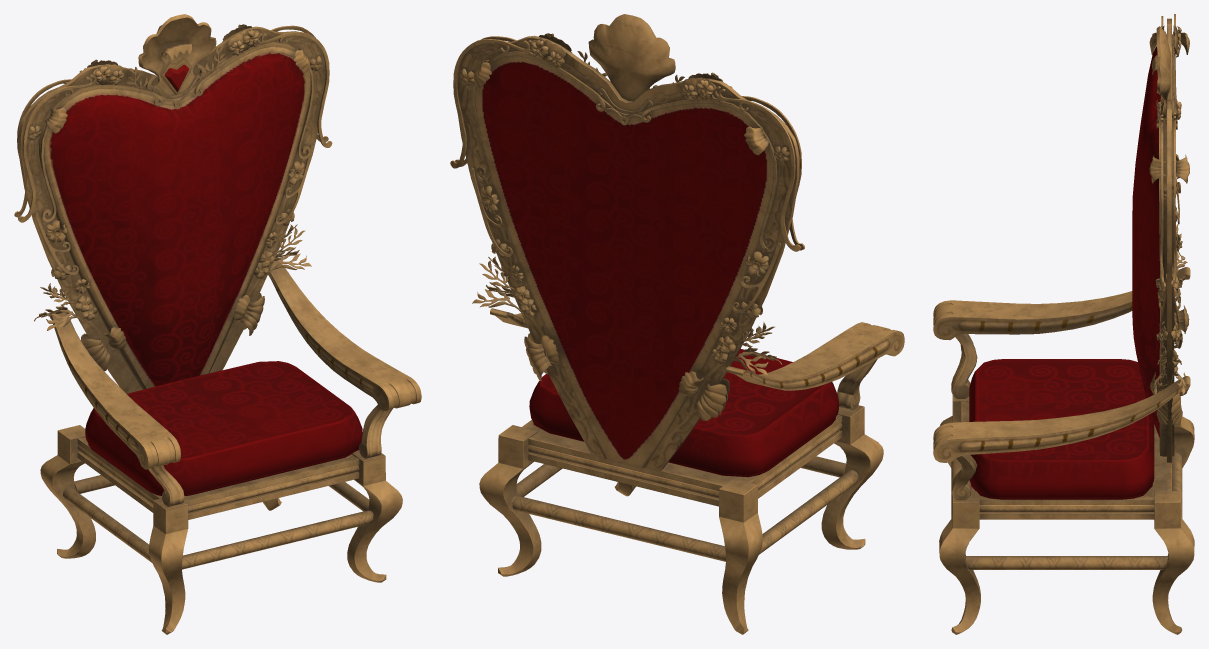
Rendered from kingly_throne.glb.
3 views of the same model, side by side, from view 1: azimuth 30°, elevation 25°; view 2: azimuth 150°, elevation 25°; view 3: azimuth 270°, elevation 25° (orthographic). The views are drawn at different scales.
Visible parts, largest first — view 1: throne_heart_low, throne_seat_low, throne_arms_low, throne_chair_base_low, throne_legs_low, throne_seat_base_low, throne_legs_base_low, throne_crown_low, throne_curls_003_low, throne_curls_001_low, throne_arms_base_low, throne_leaves_bundle_low (+7 smaller); view 2: throne_chair_base_low, throne_seat_low, throne_legs_low, throne_legs_base_low, throne_seat_base_low, throne_arms_low, throne_crown_low, throne_curls_003_low, throne_curls_001_low, throne_leaves_bundle_low, throne_petals_004_low, throne_seat_holes_low (+6 smaller); view 3: throne_seat_low, throne_arms_low, throne_heart_low, throne_legs_low, throne_seat_base_low, throne_legs_base_low, throne_chair_base_low, throne_arms_base_low, throne_curls_003_low, throne_crown_low, throne_seat_holes_low, throne_curls_001_low (+5 smaller).
Part boxes in pixels (x1,y1,x2,y2): throne_heart_low: (38,42,311,389); throne_seat_low: (85,361,362,495); throne_arms_low: (50,260,421,469); throne_chair_base_low: (18,26,325,393); throne_legs_low: (40,425,402,634); throne_seat_base_low: (77,428,359,519); throne_legs_base_low: (63,475,373,569); throne_crown_low: (138,14,216,96); throne_curls_003_low: (14,25,332,222); throne_curls_001_low: (40,42,313,222); throne_arms_base_low: (148,405,392,506); throne_leaves_bundle_low: (34,224,311,330); throne_chair_base_low: (457,35,799,470); throne_seat_low: (529,348,838,477); throne_legs_low: (479,405,883,634); throne_legs_base_low: (512,456,858,561); throne_seat_base_low: (522,414,842,506); throne_arms_low: (490,308,904,390); throne_crown_low: (588,14,675,100); throne_curls_003_low: (450,36,804,251); throne_curls_001_low: (472,51,777,251); throne_leaves_bundle_low: (472,256,781,375); throne_petals_004_low: (524,333,729,420); throne_seat_holes_low: (526,423,753,484); throne_seat_low: (969,359,1154,499); throne_arms_low: (933,267,1190,462); throne_heart_low: (1132,34,1166,456); throne_legs_low: (939,395,1194,634); throne_seat_base_low: (961,401,1171,519); throne_legs_base_low: (951,452,1182,569); throne_chair_base_low: (1167,18,1174,462); throne_arms_base_low: (951,334,977,500); throne_curls_003_low: (1160,14,1177,288); throne_crown_low: (1156,26,1171,117); throne_seat_holes_low: (966,402,1167,497); throne_curls_001_low: (1156,31,1177,280).
Size of the model in its own units: 128 by 204 by 87.65.
Materials: 1 (1 with a texture image).
